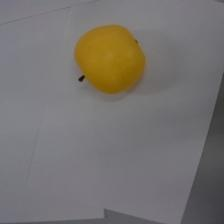yellow: (72, 22, 148, 98)
